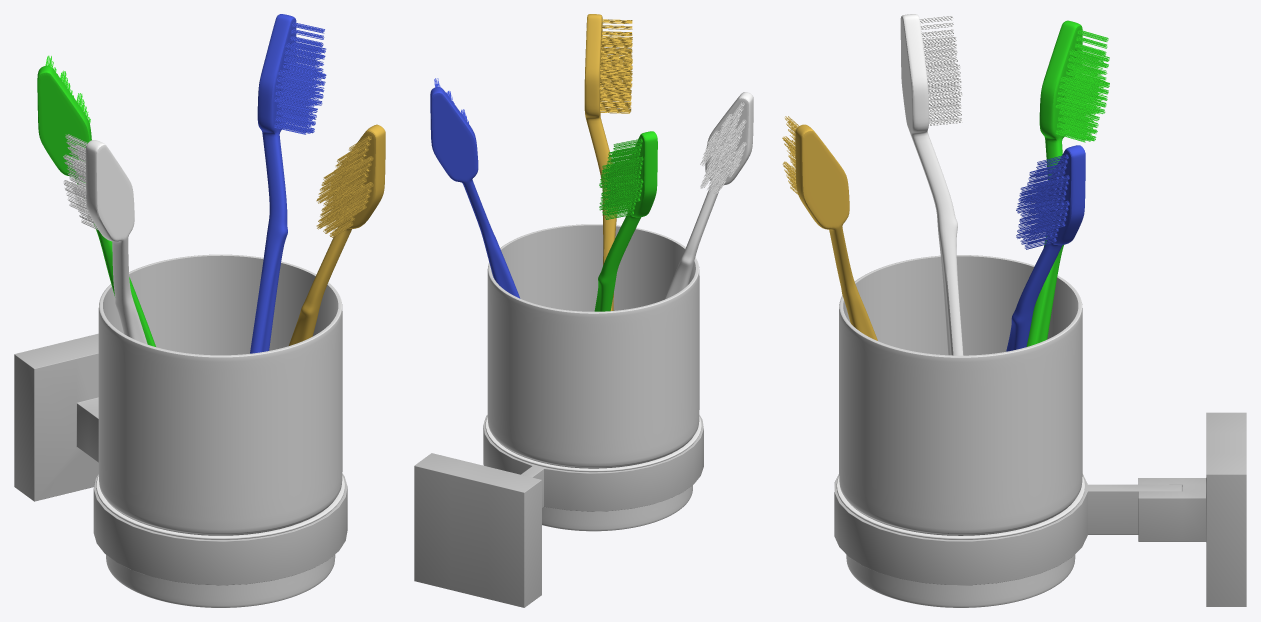
Rendered from tooth brush hoalder.fbx.
3 views of the same model, side by side, from view 1: azimuth 30°, elevation 25°; view 2: azimuth 150°, elevation 25°; view 3: azimuth 270°, elevation 25° (orthographic). The views are drawn at different scales.
Parts seen in each view (by area): view 1: Cylinder, Cube, Cube.004, Cube.003, Cube.002, Cube.001, Cylinder.001; view 2: Cylinder, Cube, Cube.002, Cube.001, Cube.004, Cube.003, Cylinder.001; view 3: Cylinder, Cube, Cube.003, Cube.001, Cube.004, Cube.002, Cylinder.001.
Part boxes in pixels (bbox=[...]): Cylinder: bbox=[98, 254, 342, 607]; Cube: bbox=[14, 333, 347, 585]; Cube.004: bbox=[250, 14, 326, 353]; Cube.003: bbox=[63, 134, 147, 344]; Cube.002: bbox=[289, 124, 385, 345]; Cube.001: bbox=[37, 55, 155, 346]; Cylinder.001: bbox=[96, 475, 344, 539]; Cylinder: bbox=[487, 224, 699, 531]; Cube: bbox=[414, 415, 703, 607]; Cube.002: bbox=[584, 14, 632, 310]; Cube.001: bbox=[594, 131, 657, 311]; Cube.004: bbox=[430, 78, 520, 298]; Cube.003: bbox=[664, 92, 753, 299]; Cylinder.001: bbox=[485, 416, 701, 472]; Cylinder: bbox=[839, 255, 1082, 607]; Cube: bbox=[834, 412, 1246, 606]; Cube.003: bbox=[900, 14, 963, 355]; Cube.001: bbox=[1026, 20, 1109, 346]; Cube.004: bbox=[1006, 145, 1085, 351]; Cube.002: bbox=[782, 116, 877, 340]; Cylinder.001: bbox=[836, 475, 1084, 539].
Size of the model in its own units: 484 by 747 by 634.
